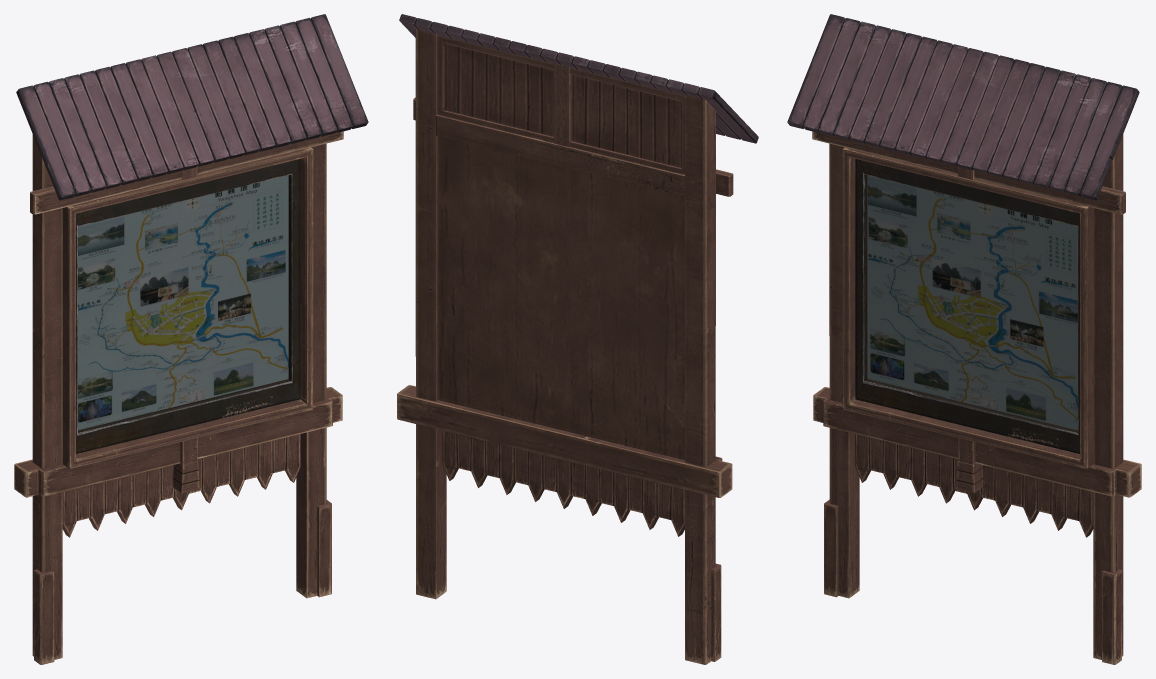
The model's file is M_cp_sxd_gaopai_01.fbx.
3 renders of one model, left to right at view 1: azimuth 30°, elevation 25°; view 2: azimuth 150°, elevation 25°; view 3: azimuth 330°, elevation 25°, orthographic. The views are drawn at different scales.
Parts seen in each view (by area): view 1: M_cp_sxd_gaopai_01.mo; view 2: M_cp_sxd_gaopai_01.mo; view 3: M_cp_sxd_gaopai_01.mo.
Part boxes in pixels (x1,y1,x2,y2): M_cp_sxd_gaopai_01.mo: (14, 14, 368, 664); M_cp_sxd_gaopai_01.mo: (397, 14, 758, 664); M_cp_sxd_gaopai_01.mo: (787, 14, 1141, 664).
Bounding box in the file's own units: 167 × 285 × 41.61.
